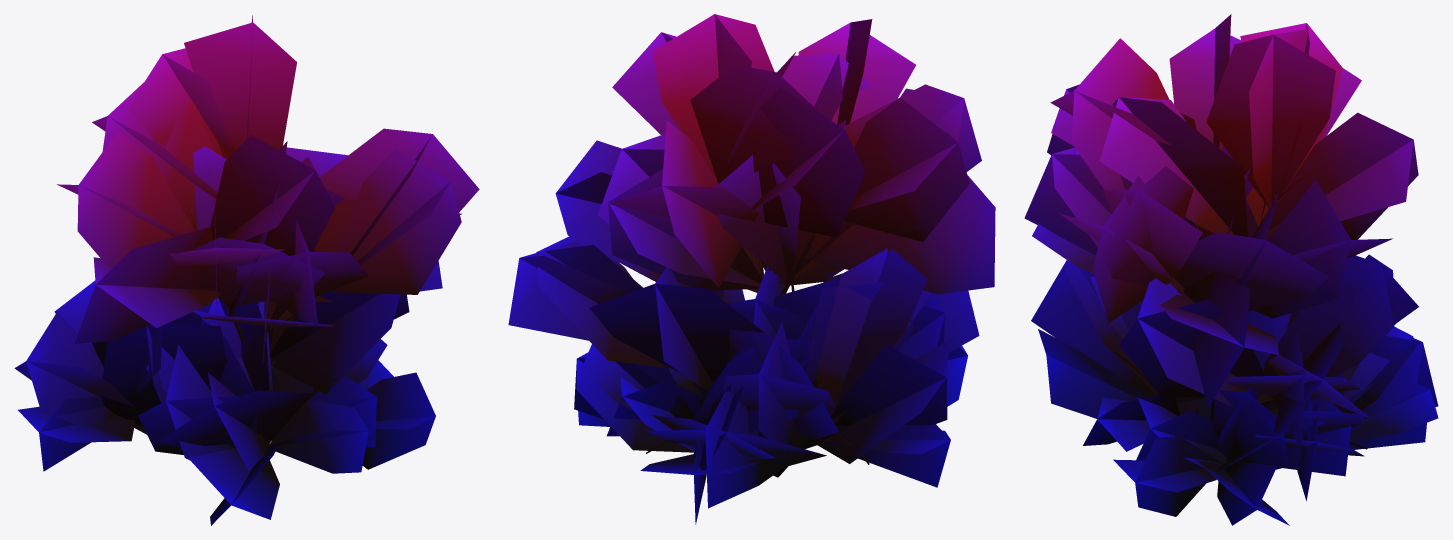
File: Bush_A_06.fbx
3 views of the same model, side by side, from view 1: azimuth 30°, elevation 25°; view 2: azimuth 150°, elevation 25°; view 3: azimuth 270°, elevation 25° (orthographic). The views are drawn at different scales.
Visible parts, largest first — view 1: Bush_A_06; view 2: Bush_A_06; view 3: Bush_A_06.
Boxes of the visible parts, x1=… form: Bush_A_06: x1=14, y1=15, x2=479, y2=525; Bush_A_06: x1=508, y1=14, x2=995, y2=524; Bush_A_06: x1=1024, y1=14, x2=1438, y2=525.
Size of the model in its own units: 583 by 614 by 506.
